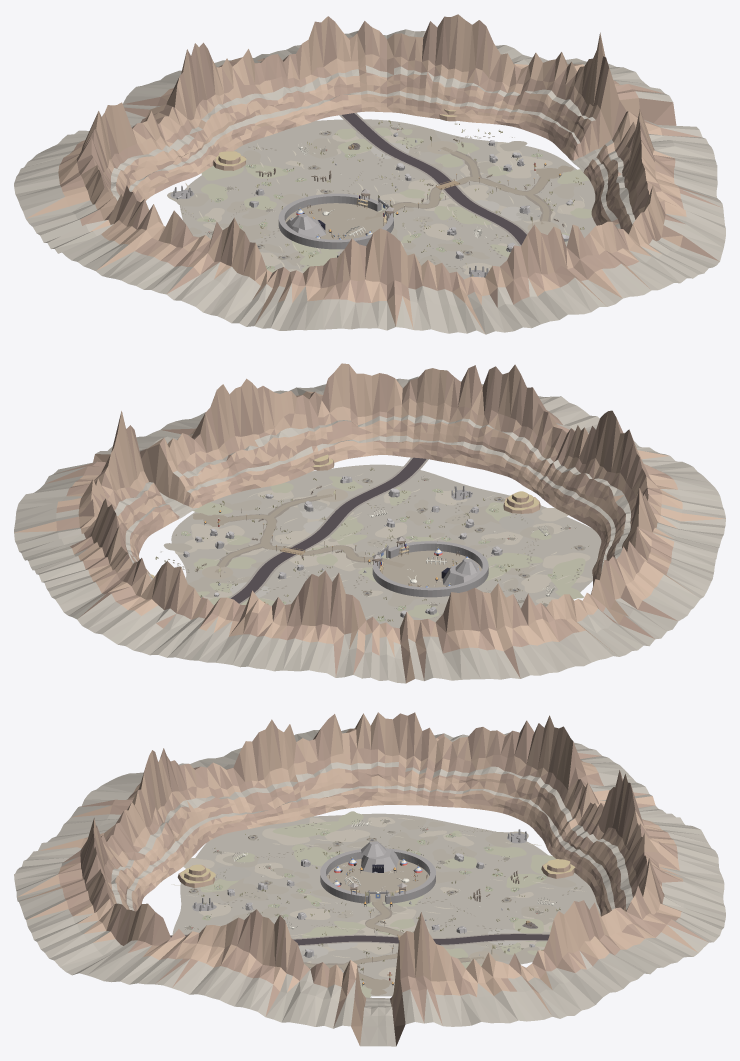
Rendered from map_fort_trolls.glb.
3 renders of one model, top to bottom at view 1: azimuth 30°, elevation 25°; view 2: azimuth 150°, elevation 25°; view 3: azimuth 270°, elevation 25°, orthographic.
Parts seen in each view (by area): view 1: Z_fort_trolls_penhascos, Z_fort_trolls_chao_chao, Z_fort_trolls_patio, Z_fort_trolls_agua_rio_1, Z_fort_trolls_det_chao_2_0, Z_fort_trolls_det_chao_-1_0, Z_fort_trolls_det_chao_0_2, Z_fort_trolls_det_chao_0_1, Z_fort_trolls_det_chao_1_-2, Z_fort_trolls_estrada_subida, Z_fort_trolls_margem_rio_1, Z_fort_trolls_det_chao_-1_-2 (+9 smaller); view 2: Z_fort_trolls_penhascos, Z_fort_trolls_chao_chao, Z_fort_trolls_agua_rio_1, Z_fort_trolls_patio, Z_fort_trolls_det_chao_-1_-3, Z_fort_trolls_det_chao_-1_0, Z_fort_trolls_det_chao_0_2, Z_fort_trolls_det_chao_0_1, Z_fort_trolls_det_chao_-2_-2, Z_fort_trolls_estrada_subida, Z_fort_trolls_det_chao_-2_-1, Z_fort_trolls_margem_rio_1 (+7 smaller); view 3: Z_fort_trolls_penhascos, Z_fort_trolls_chao_chao, Z_fort_trolls_patio, Z_fort_trolls_det_chao_-1_-3, Z_fort_trolls_agua_rio_1, Z_fort_trolls_det_chao_0_-3, Z_fort_trolls_det_chao_-1_0, Z_fort_trolls_det_chao_-2_-1, Z_fort_trolls_det_chao_-2_-2, Z_fort_trolls_det_chao_1_-2, Z_fort_trolls_det_chao_2_0, Z_fort_trolls_det_chao_2_-1 (+8 smaller).
Boxes of the visible parts, x1,y1,x2,y2 form: Z_fort_trolls_penhascos: (14,14,725,334); Z_fort_trolls_chao_chao: (180,119,596,279); Z_fort_trolls_patio: (285,203,387,239); Z_fort_trolls_agua_rio_1: (342,113,526,245); Z_fort_trolls_det_chao_2_0: (303,128,388,158); Z_fort_trolls_det_chao_-1_0: (413,198,491,240); Z_fort_trolls_det_chao_0_2: (487,142,552,178); Z_fort_trolls_det_chao_0_1: (379,150,550,212); Z_fort_trolls_det_chao_1_-2: (201,181,283,214); Z_fort_trolls_estrada_subida: (364,172,552,219); Z_fort_trolls_margem_rio_1: (339,112,527,246); Z_fort_trolls_det_chao_-1_-2: (279,241,340,269); Z_fort_trolls_penhascos: (14,363,725,683); Z_fort_trolls_chao_chao: (171,464,601,628); Z_fort_trolls_agua_rio_1: (231,457,426,603); Z_fort_trolls_patio: (379,550,481,587); Z_fort_trolls_det_chao_-1_-3: (503,558,591,599); Z_fort_trolls_det_chao_-1_0: (319,516,407,548); Z_fort_trolls_det_chao_0_2: (174,523,250,554); Z_fort_trolls_det_chao_0_1: (216,514,387,568); Z_fort_trolls_det_chao_-2_-2: (481,525,553,564); Z_fort_trolls_estrada_subida: (216,515,405,567); Z_fort_trolls_det_chao_-2_-1: (428,511,494,549); Z_fort_trolls_margem_rio_1: (229,457,428,604); Z_fort_trolls_penhascos: (14,712,725,1046); Z_fort_trolls_chao_chao: (172,813,600,996); Z_fort_trolls_patio: (327,859,429,901); Z_fort_trolls_det_chao_-1_-3: (272,811,376,847); Z_fort_trolls_agua_rio_1: (170,934,549,945); Z_fort_trolls_det_chao_0_-3: (367,817,446,851); Z_fort_trolls_det_chao_-1_0: (289,907,374,937); Z_fort_trolls_det_chao_-2_-1: (230,871,312,901); Z_fort_trolls_det_chao_-2_-2: (222,844,312,878); Z_fort_trolls_det_chao_1_-2: (443,846,526,876); Z_fort_trolls_det_chao_2_0: (513,905,563,941); Z_fort_trolls_det_chao_2_-1: (506,873,584,901).
Bounding box in the file's own units: 362 × 61.74 × 362.
